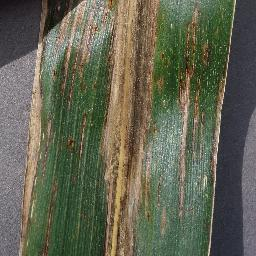Gray_Leaf_Spot: (16, 0, 240, 223), (13, 221, 57, 256), (102, 222, 139, 256), (202, 214, 220, 256), (150, 220, 170, 236), (67, 221, 88, 235)
